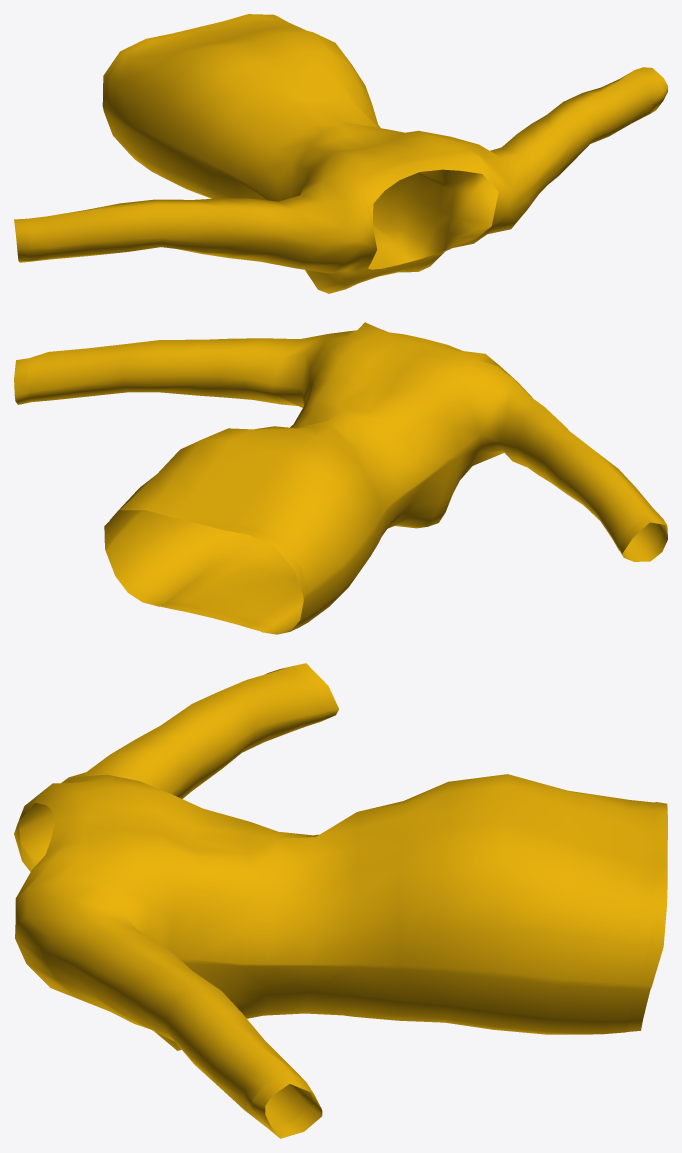
Rendered from last_dress.glb.
3 renders of one model, top to bottom at view 1: azimuth 30°, elevation 25°; view 2: azimuth 150°, elevation 25°; view 3: azimuth 270°, elevation 25°, orthographic. The views are drawn at different scales.
Visible parts, largest first — view 1: T_Shirt_male; view 2: T_Shirt_male; view 3: T_Shirt_male.
Part boxes in pixels (x1,y1,x2,y2): T_Shirt_male: [14, 14, 667, 293]; T_Shirt_male: [14, 322, 667, 634]; T_Shirt_male: [14, 663, 667, 1138].
Size of the model in its own units: 5.36 by 1.23 by 3.43.
